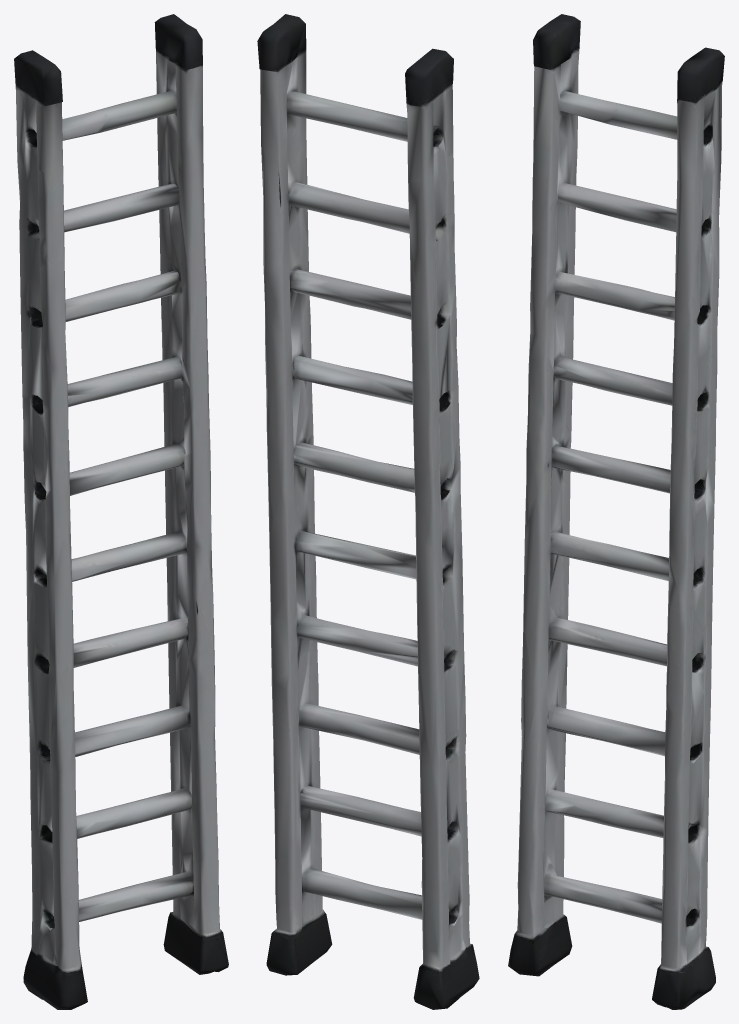
Rendered from ladder.glb.
The picture shows the model from 3 angles, left to right: view 1: azimuth 30°, elevation 25°; view 2: azimuth 150°, elevation 25°; view 3: azimuth 330°, elevation 25°; orthographic projection. The views are drawn at different scales.
Parts seen in each view (by area): view 1: ladder-node; view 2: ladder-node; view 3: ladder-node.
Boxes of the visible parts, x1,y1,x2,y2 form: ladder-node: (14, 14, 228, 1009); ladder-node: (257, 14, 479, 1009); ladder-node: (508, 14, 724, 1009).
Bounding box in the file's own units: 0.1936 × 1 × 0.1064.
1 material, 1 textured.
